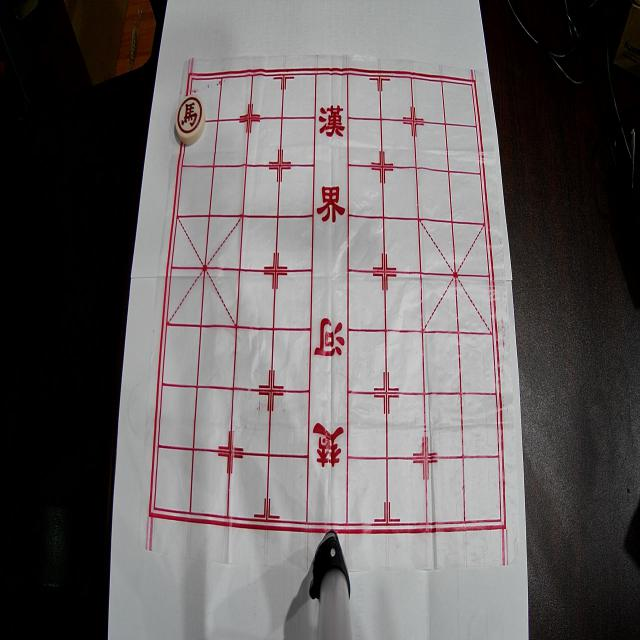red-horse: (176, 94, 206, 145)
